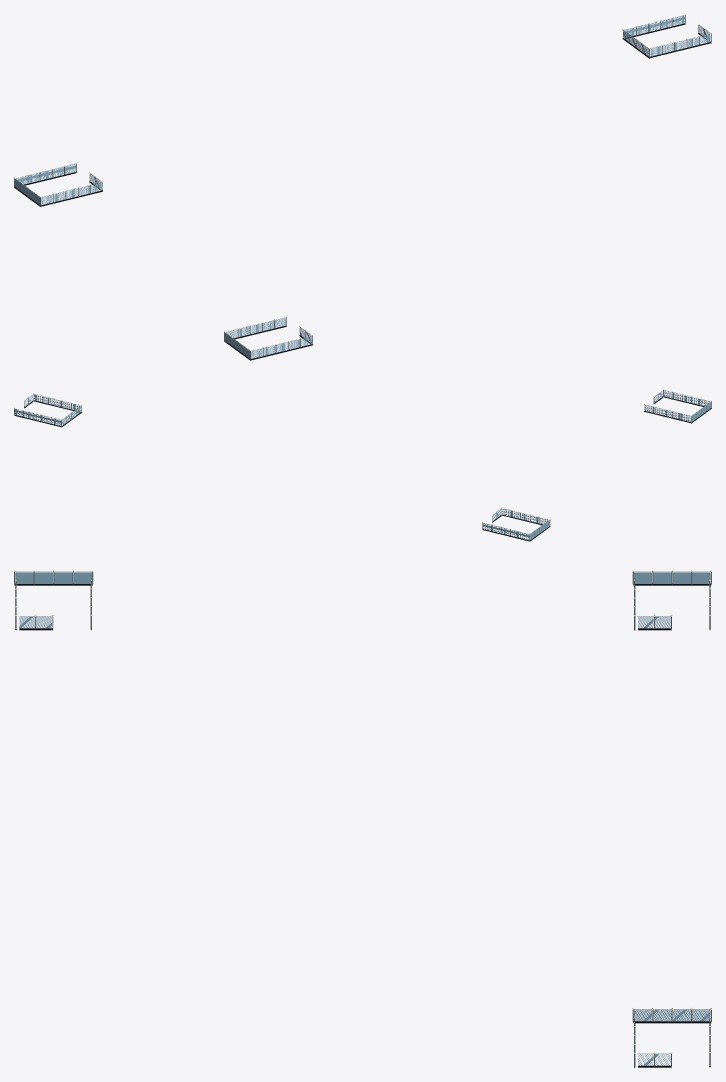
File: tt_struct_guards_cores_f3_r2a.glb
The picture shows the model from 3 angles, top to bottom: view 1: azimuth 30°, elevation 25°; view 2: azimuth 150°, elevation 25°; view 3: azimuth 270°, elevation 25°; orthographic projection. The views are drawn at different scales.
Parts seen in each view (by area): view 1: Guard_Pane_Scissor, Guard_Kerb, Guard_Posts; view 2: Guard_Pane_Scissor, Guard_Kerb, Guard_Posts, Guard_Rail; view 3: Guard_Pane_Scissor, Guard_Kerb.
Boxes of the visible parts, bbox=[...] form: Guard_Pane_Scissor: bbox=[14, 15, 710, 358]; Guard_Kerb: bbox=[14, 23, 711, 360]; Guard_Posts: bbox=[14, 15, 711, 359]; Guard_Pane_Scissor: bbox=[14, 390, 711, 540]; Guard_Kerb: bbox=[14, 396, 711, 541]; Guard_Posts: bbox=[14, 390, 711, 540]; Guard_Rail: bbox=[14, 390, 711, 534]; Guard_Pane_Scissor: bbox=[15, 572, 710, 1065]; Guard_Kerb: bbox=[14, 584, 711, 1067].
Size of what is drawn, in the model's own units: 80.34 by 1.16 by 49.09.
5 materials, 4 textured.
